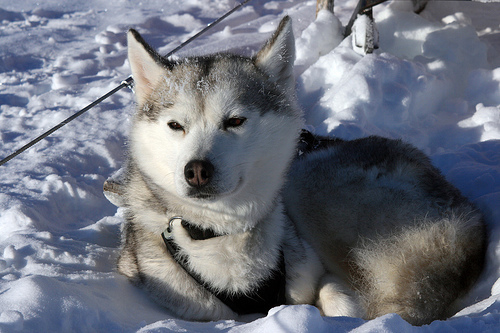dog: (118, 16, 497, 330)
